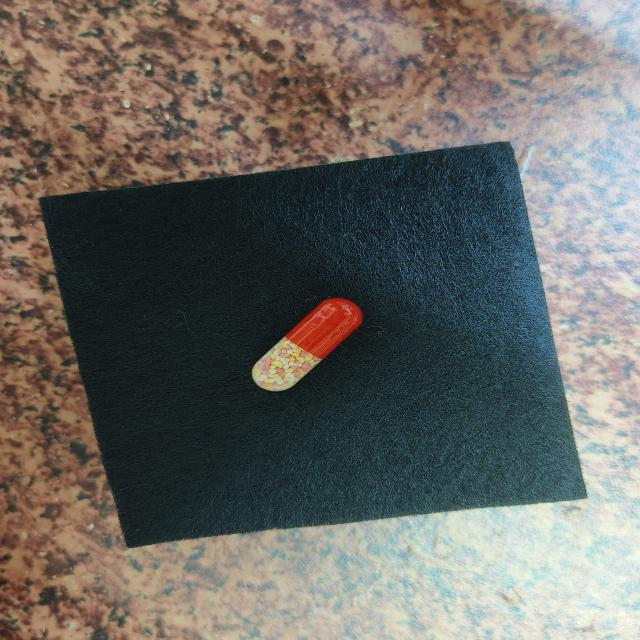Intact Capsule: (252, 298, 363, 392)
